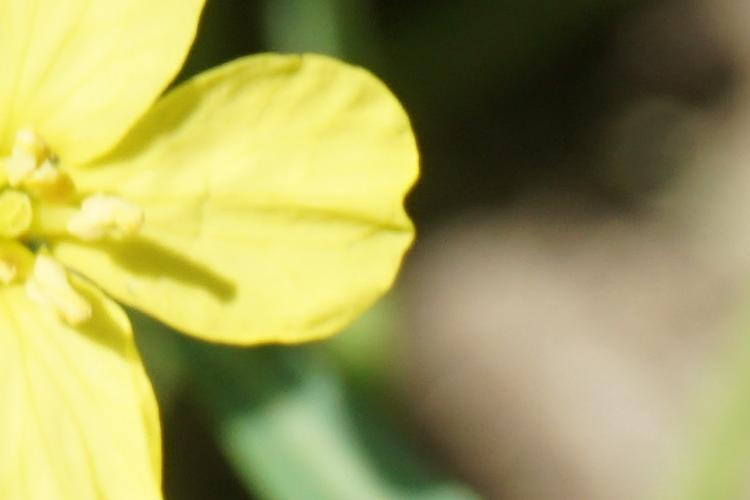yellow: (2, 3, 433, 497)
